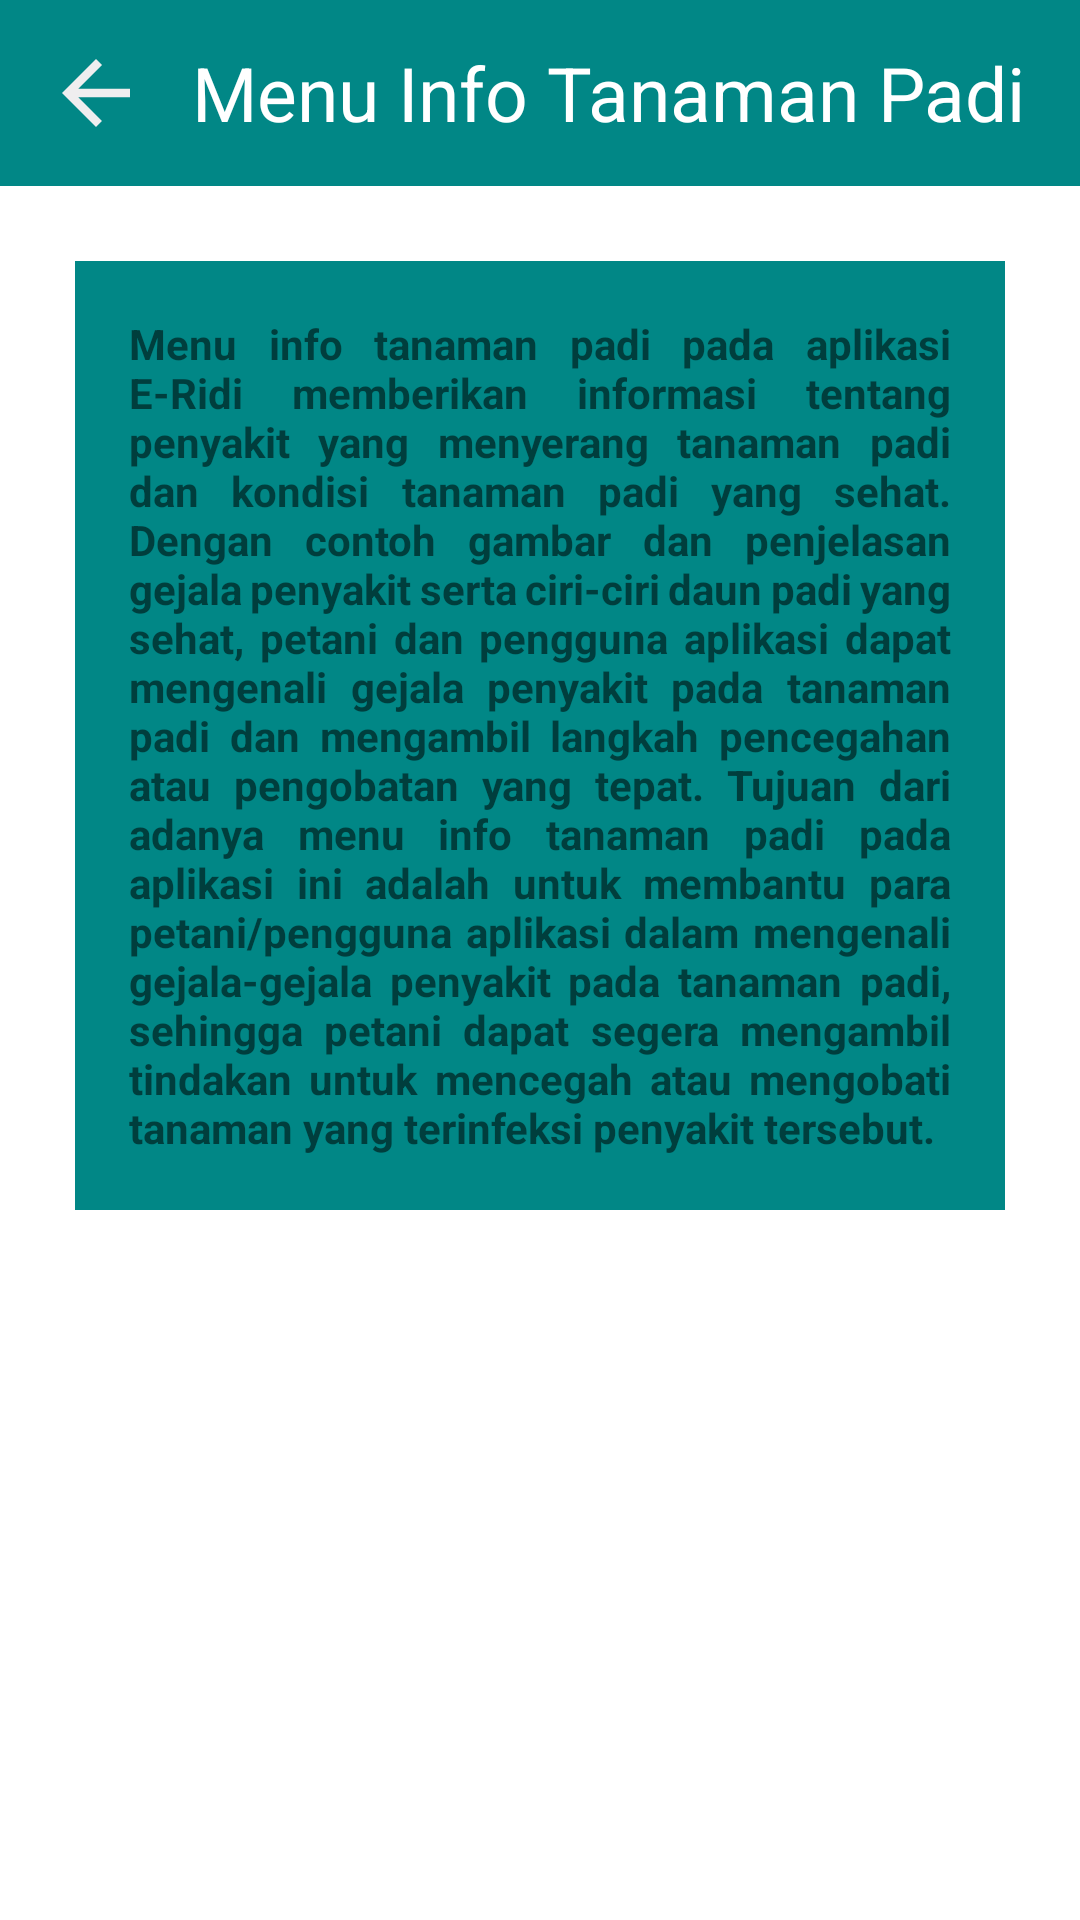

Named icons in this screenshot (1080x1920) and their bounding boxes, (x1, y1, x2, y2):
back: (62, 59, 130, 127)
